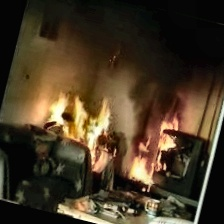fire: (43, 84, 131, 157), (128, 115, 182, 190)
smoke: (91, 4, 224, 125)
